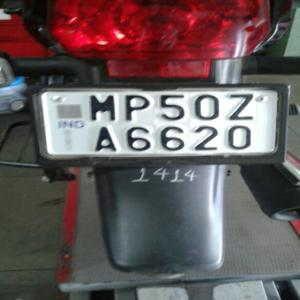Plate: (53, 87, 278, 158)
